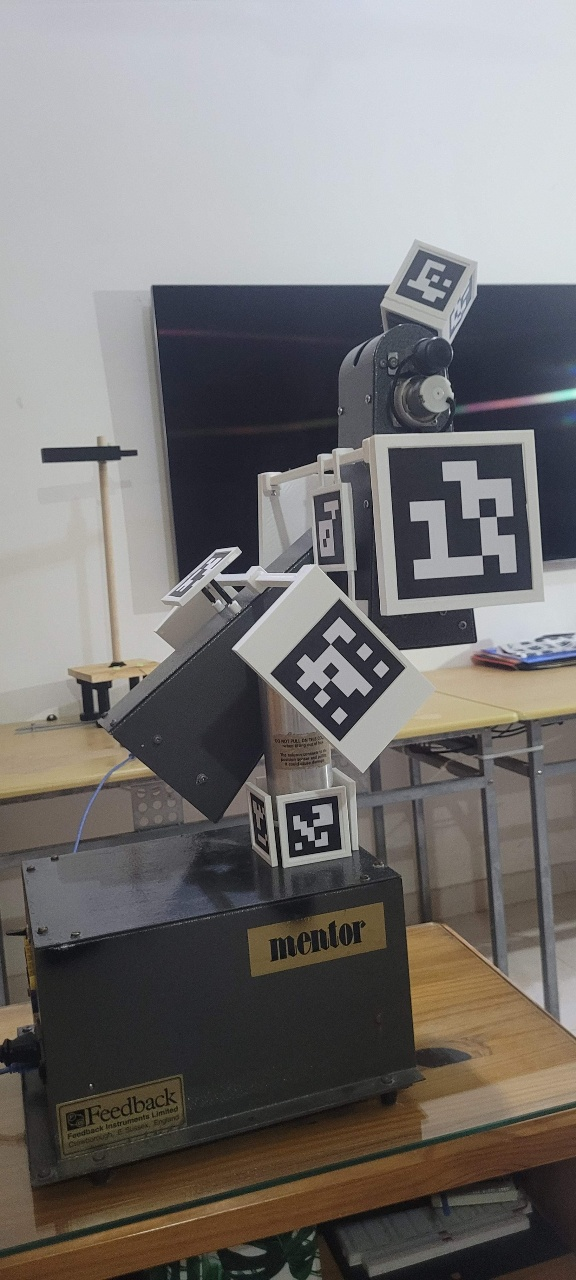Robot: (94, 239, 548, 870)
